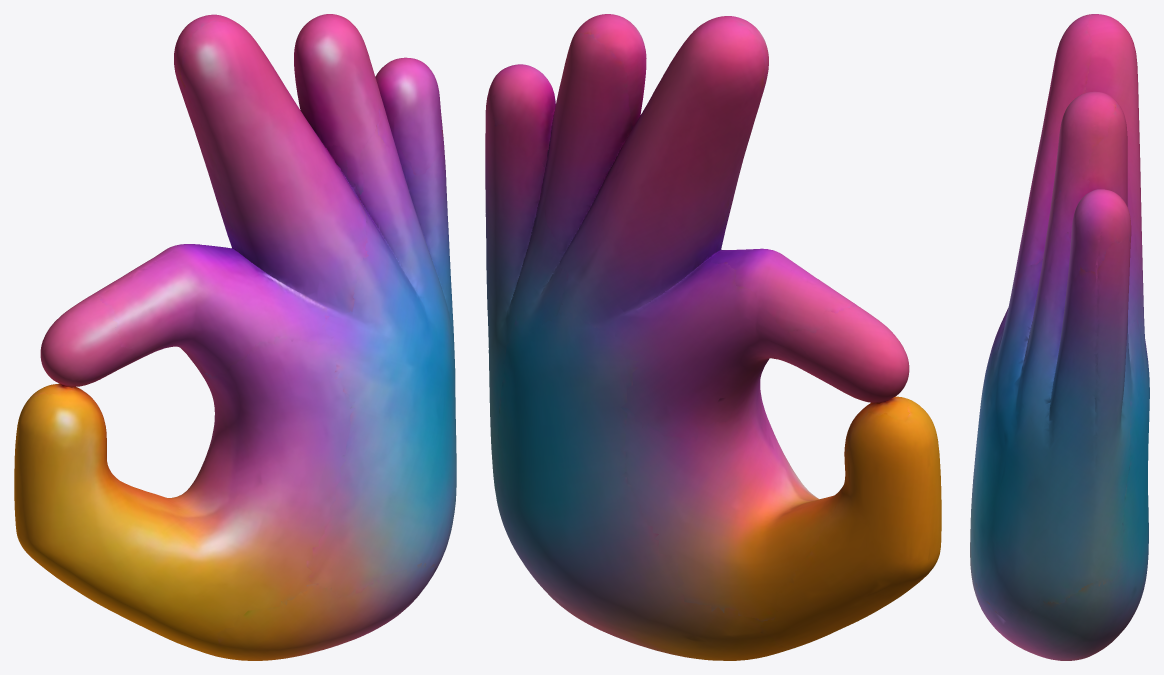
The model's file is ok__main__r3__p2.glb.
The picture shows the model from 3 angles, left to right: view 1: azimuth 30°, elevation 25°; view 2: azimuth 150°, elevation 25°; view 3: azimuth 270°, elevation 25°; orthographic projection. The views are drawn at different scales.
Visible parts, largest first — view 1: model; view 2: model; view 3: model.
Part boxes in pixels (bbox=[...]): model: bbox=[14, 14, 456, 660]; model: bbox=[485, 14, 941, 660]; model: bbox=[970, 14, 1149, 660].
Bounding box in the file's own units: 1.15 × 1.62 × 0.45.
1 material, 1 textured.
